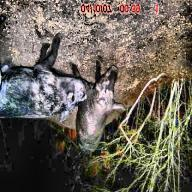boar: (64, 46, 140, 163), (0, 20, 86, 123)
